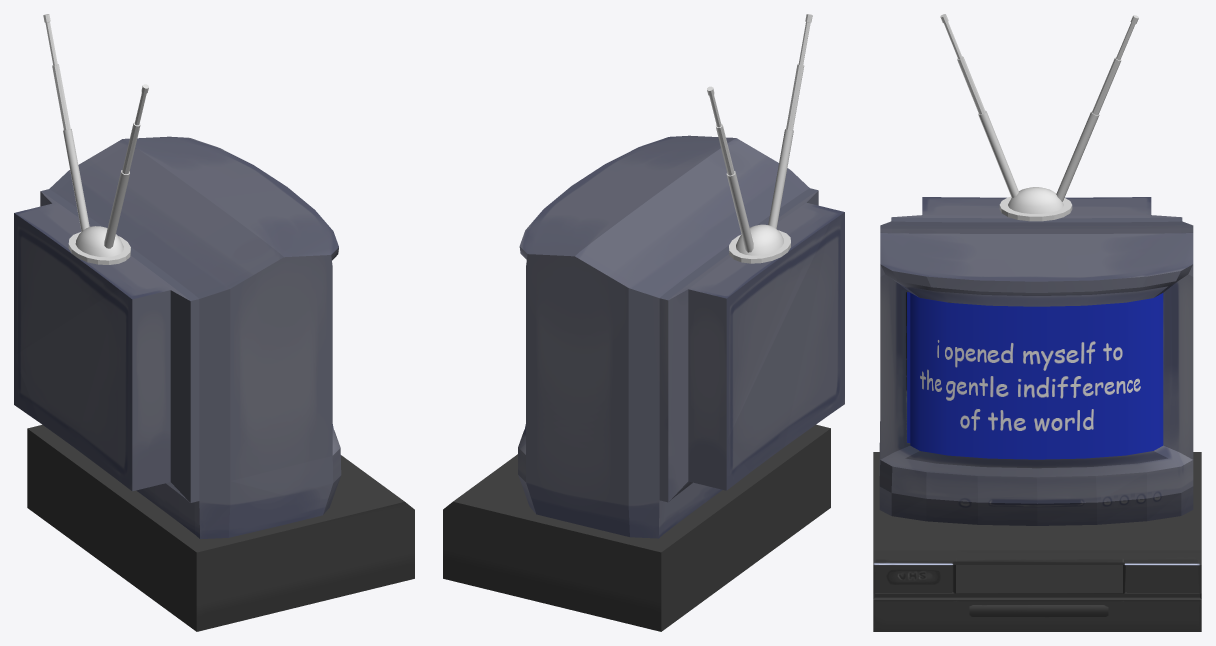
The model's file is Camus_TV.FBX.
The picture shows the model from 3 angles, left to right: view 1: azimuth 30°, elevation 25°; view 2: azimuth 150°, elevation 25°; view 3: azimuth 270°, elevation 25°; orthographic projection. The views are drawn at different scales.
Parts seen in each view (by area): view 1: Tele002, VHS002, Cylinder006, Top002, Antenna002; view 2: Tele002, VHS002, Antenna002, Top002, Cylinder006; view 3: Tele002, Screen002, VHS002, Top002, Cylinder006, Antenna002.
Boxes of the visible parts, left/top/right/bottom form: Tele002: left=14, top=136, right=341, bottom=539; VHS002: left=27, top=424, right=414, bottom=631; Cylinder006: left=43, top=14, right=89, bottom=231; Top002: left=68, top=226, right=130, bottom=264; Antenna002: left=104, top=84, right=148, bottom=248; Tele002: left=518, top=135, right=844, bottom=538; VHS002: left=443, top=424, right=830, bottom=631; Antenna002: left=768, top=14, right=812, bottom=228; Top002: left=729, top=224, right=790, bottom=263; Cylinder006: left=707, top=86, right=753, bottom=252; Tele002: left=879, top=197, right=1193, bottom=525; Screen002: left=910, top=293, right=1163, bottom=459; VHS002: left=873, top=452, right=1201, bottom=631; Top002: left=999, top=187, right=1072, bottom=221; Cylinder006: left=1056, top=15, right=1138, bottom=201; Antenna002: left=940, top=14, right=1018, bottom=197.
Bounding box in the file's own units: 34.88 × 67.86 × 39.82.
2 materials, 2 textured.
